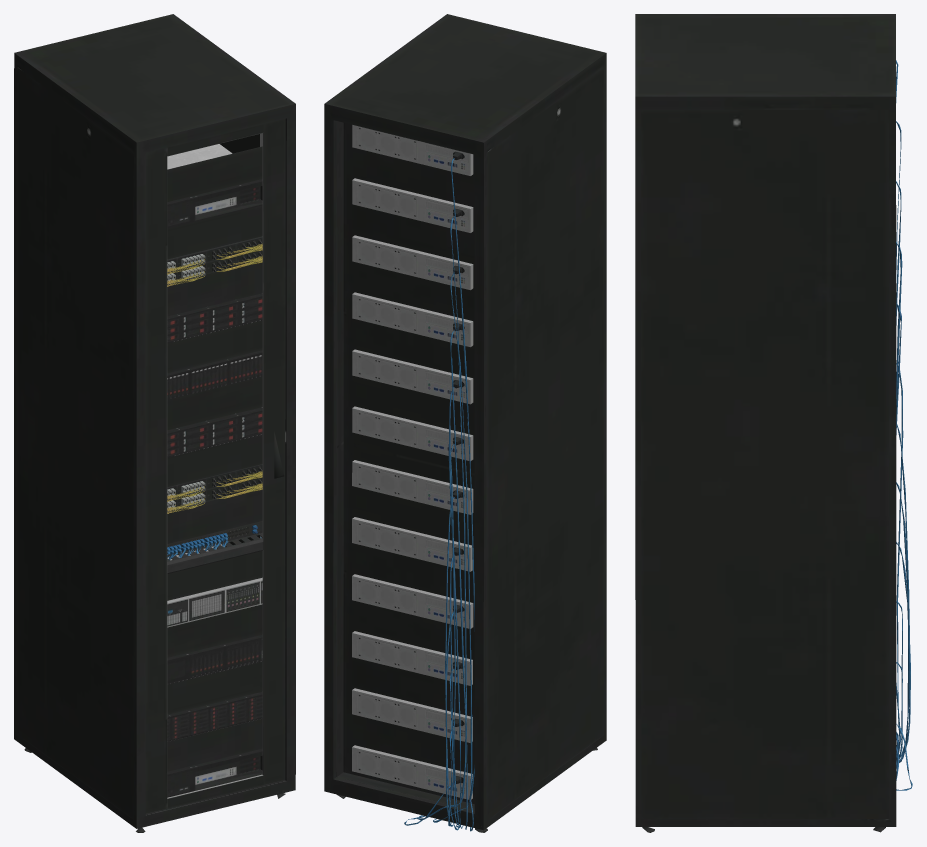
Rendered from server_rack.glb.
The picture shows the model from 3 angles, left to right: view 1: azimuth 30°, elevation 25°; view 2: azimuth 150°, elevation 25°; view 3: azimuth 270°, elevation 25°; orthographic projection. The views are drawn at different scales.
Parts seen in each view (by area): view 1: SM_Server_Case_001_StingrayPBS4_0, SM_Servers_1_001_StingrayPBS3_0, SM_Back_001_StingrayPBS2_0; view 2: SM_Server_Case_001_StingrayPBS4_0, SM_Back_001_StingrayPBS2_0; view 3: SM_Server_Case_001_StingrayPBS4_0, SM_Back_001_StingrayPBS2_0.
Boxes of the visible parts, x1,y1,x2,y2 form: SM_Server_Case_001_StingrayPBS4_0: (14,14,295,832); SM_Servers_1_001_StingrayPBS3_0: (167,144,262,797); SM_Back_001_StingrayPBS2_0: (167,236,263,627); SM_Server_Case_001_StingrayPBS4_0: (324,14,606,832); SM_Back_001_StingrayPBS2_0: (352,125,474,831); SM_Server_Case_001_StingrayPBS4_0: (635,14,896,832); SM_Back_001_StingrayPBS2_0: (896,60,912,790).
Size of what is drawn, in the model's own units: 0.6 by 2.5 by 0.8517.
3 materials, 3 textured.
